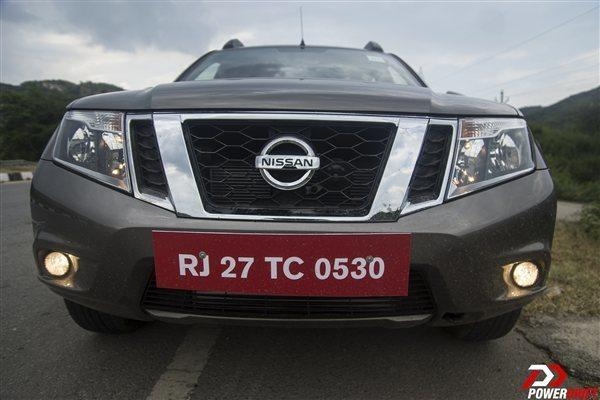License-Plate: (155, 227, 418, 302)
